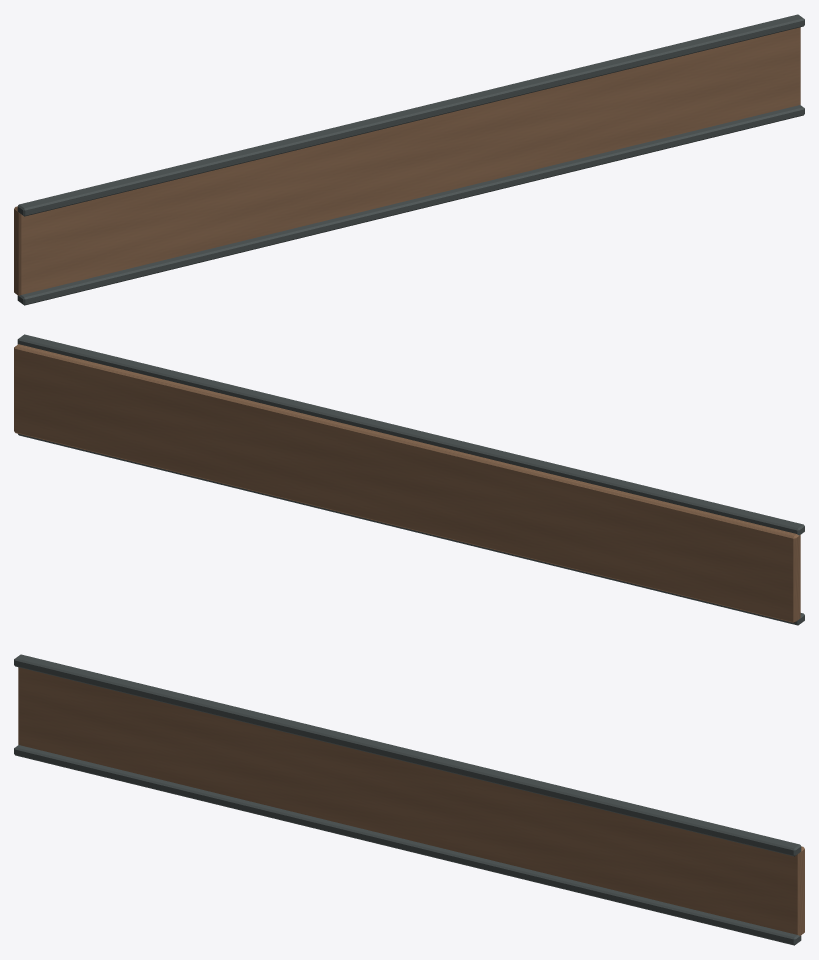
Rendered from D_SignBand_Steel_visual.glb.
The picture shows the model from 3 angles, top to bottom: view 1: azimuth 30°, elevation 25°; view 2: azimuth 150°, elevation 25°; view 3: azimuth 330°, elevation 25°; orthographic projection.
Parts seen in each view (by area): view 1: D_SignBand_Steel__VIS; view 2: D_SignBand_Steel__VIS; view 3: D_SignBand_Steel__VIS.
Part boxes in pixels (x1,y1,x2,y2): D_SignBand_Steel__VIS: (14, 14, 804, 305); D_SignBand_Steel__VIS: (14, 334, 804, 625); D_SignBand_Steel__VIS: (14, 654, 804, 945).
Size of the model in its own units: 16 by 1.9 by 0.385.
Materials: 1 (1 with a texture image).
